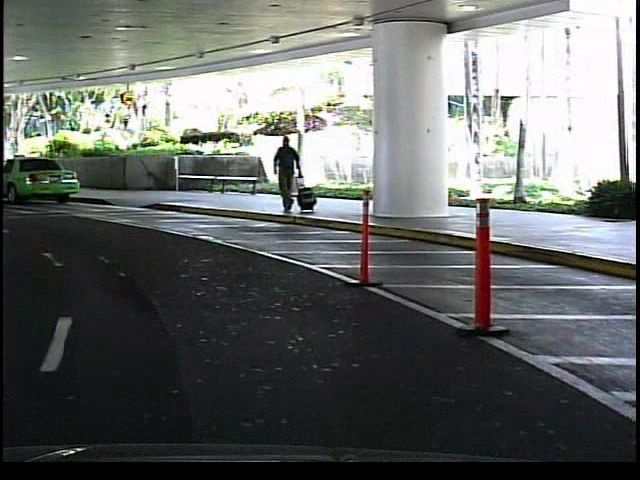person: (271, 128, 308, 218)
